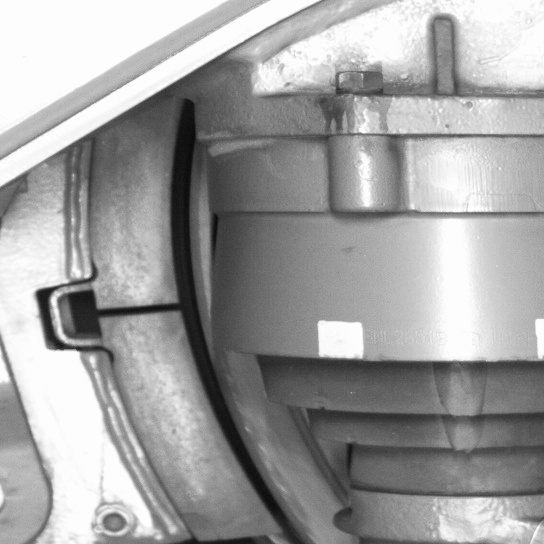KnifeSwitch: (92, 135, 316, 541)
